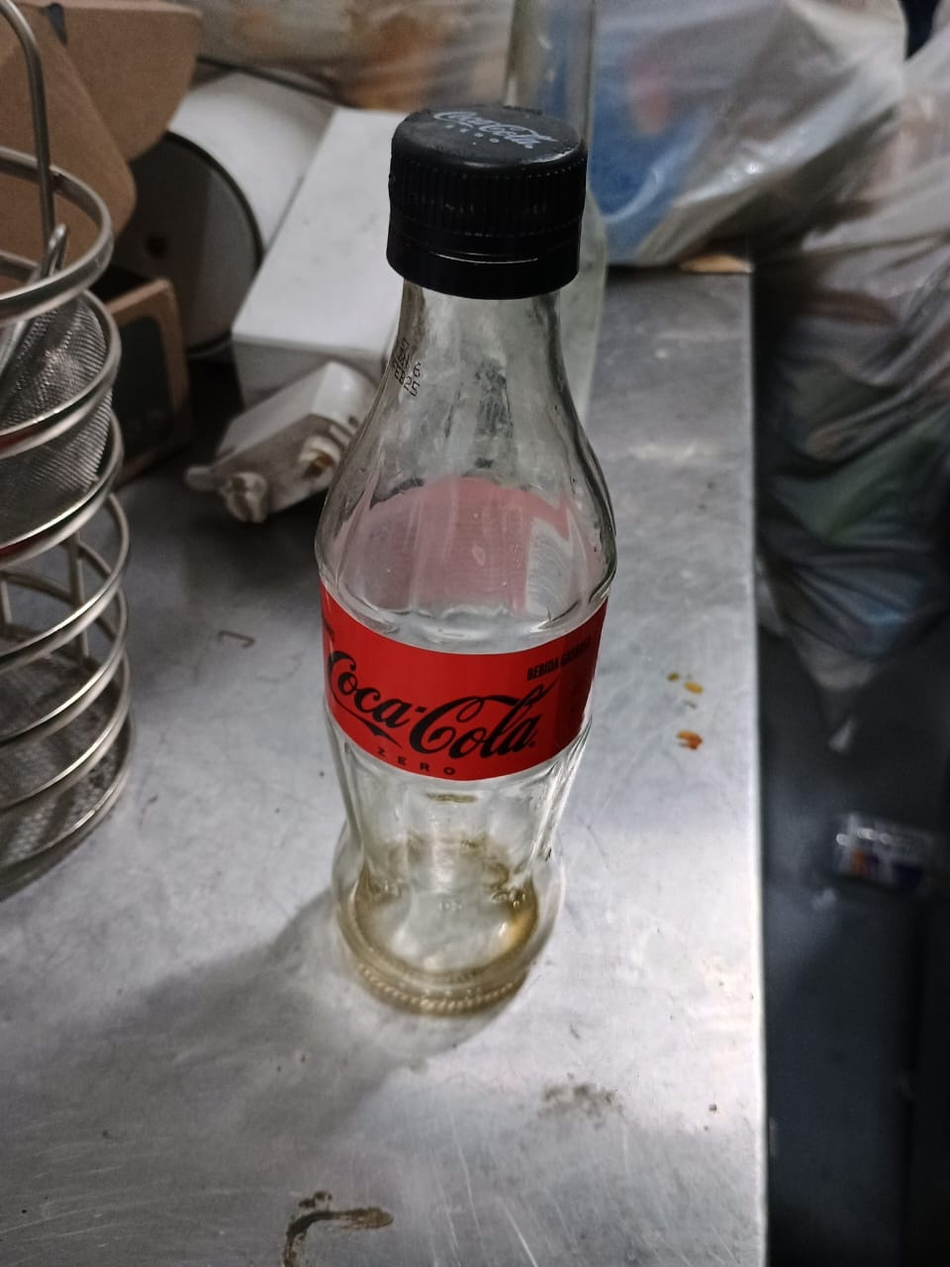Plastico: (385, 102, 588, 277)
Vidrio: (311, 283, 618, 1018)
